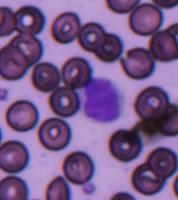L: (81, 76, 125, 123)
